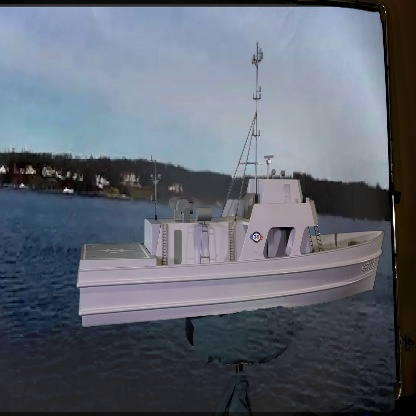YP689: (76, 40, 387, 328)
